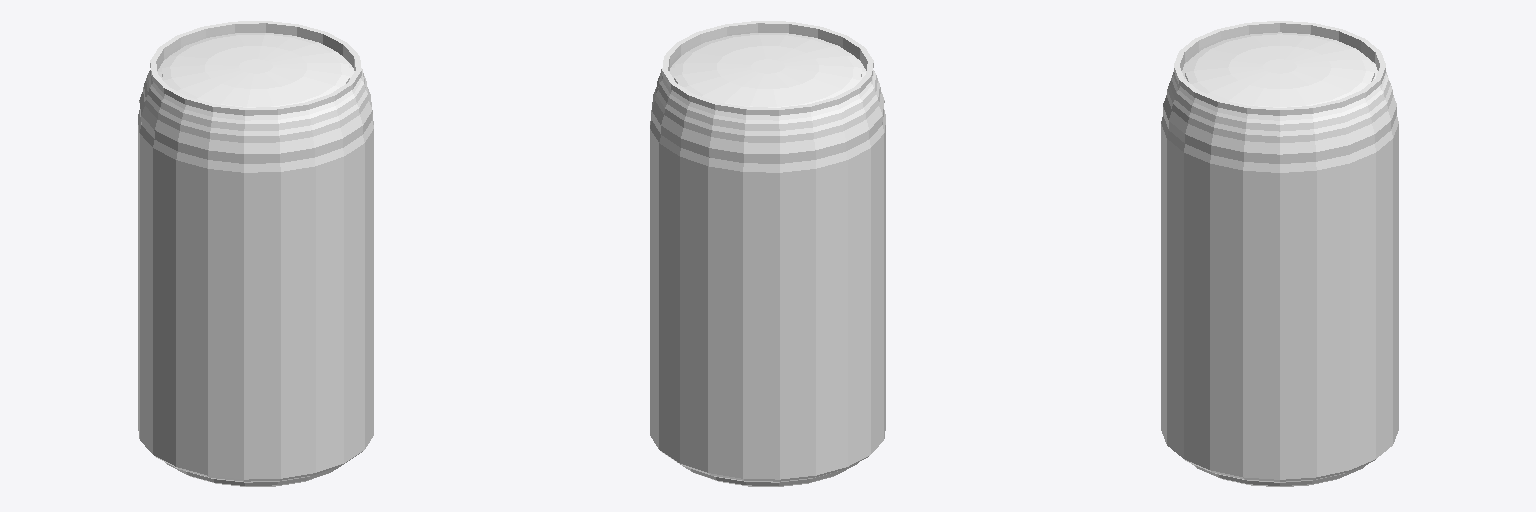
The model's file is can.obj.
3 views of the same model, side by side, from view 1: azimuth 30°, elevation 25°; view 2: azimuth 150°, elevation 25°; view 3: azimuth 270°, elevation 25° (orthographic).
Visible parts, largest first — view 1: pCylinder1; view 2: pCylinder1; view 3: pCylinder1.
Boxes of the visible parts, box(x1,y1,x2,y2) form: pCylinder1: box(138, 21, 373, 486); pCylinder1: box(650, 21, 885, 486); pCylinder1: box(1161, 21, 1398, 486).
Bounding box in the file's own units: 8.21 × 14.5 × 8.21.